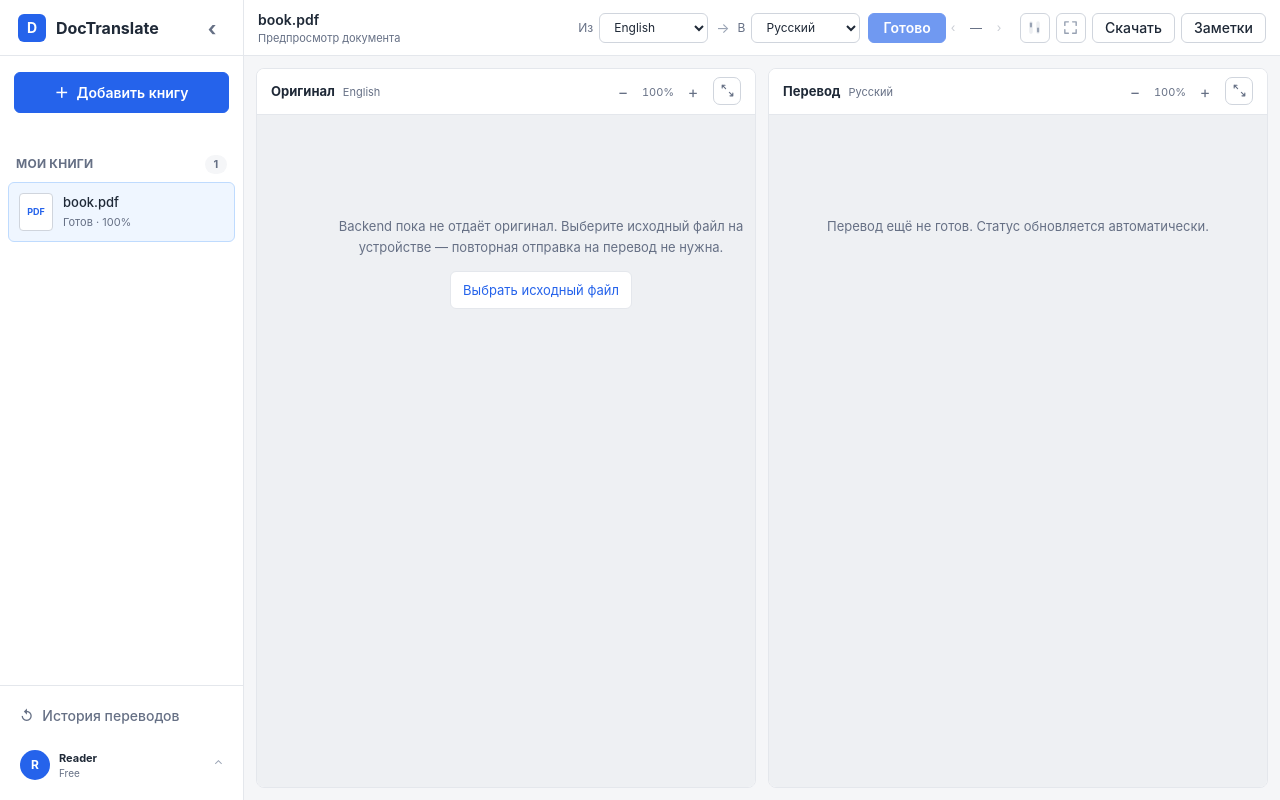
translation download UI › downloads the DONE result with Bearer authentication and the server filename
The width and height of the screenshot is (1280, 800).
What coordinates should you click on to do the following:
click the button "Скачать"
I would click on:
 (1133, 28)
Its box is x1=1092 y1=12 x2=1175 y2=42.
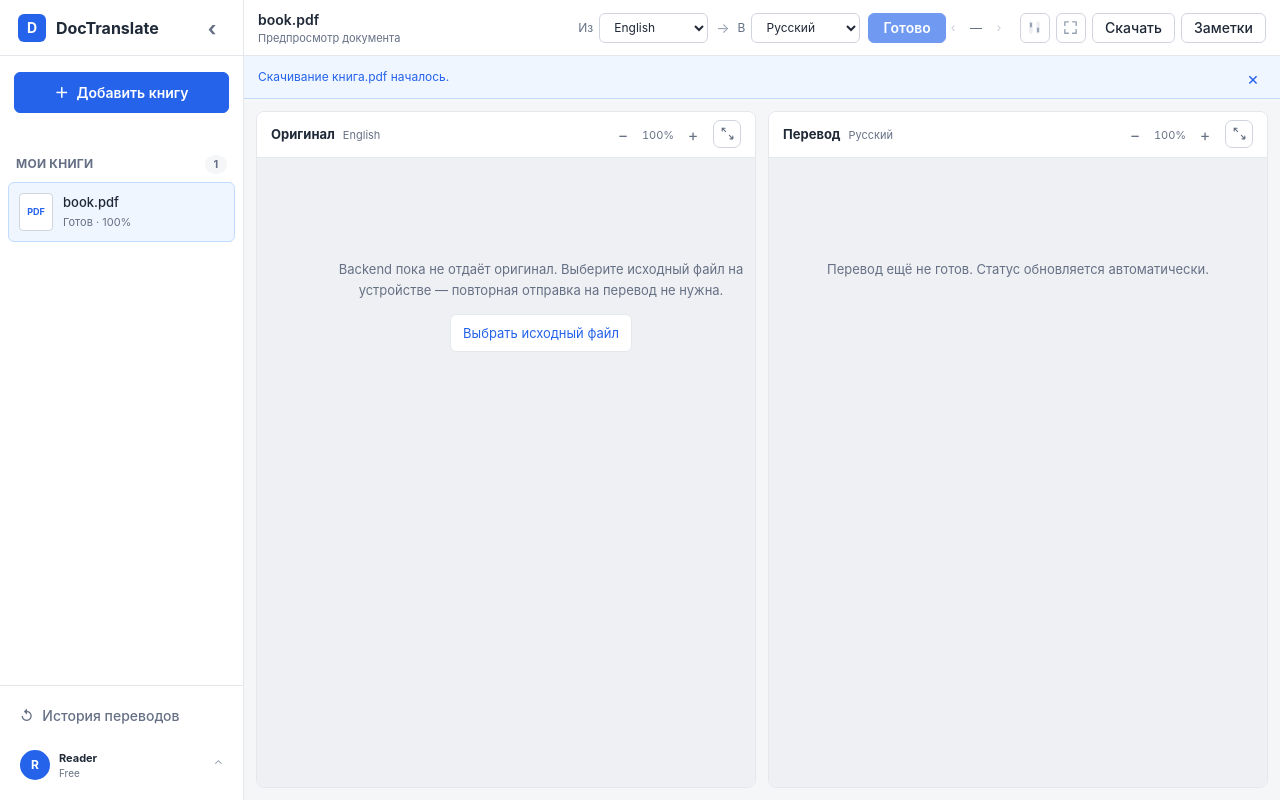
Result: the text "Скачивание книга.pdf началось." is shown at x1=258 y1=69 x2=449 y2=84
